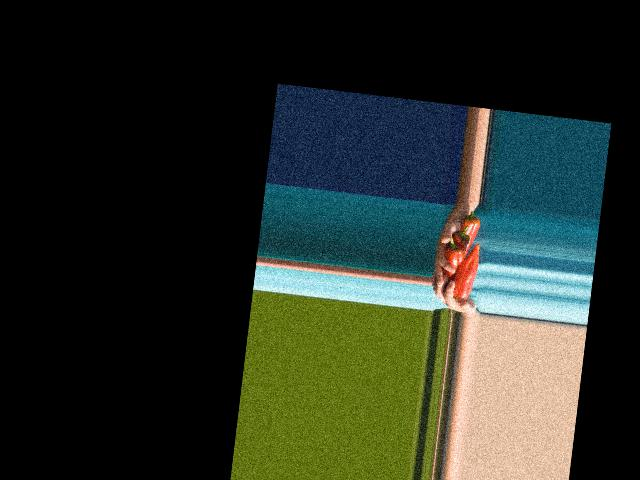bell_pepper: (457, 209, 481, 248)
